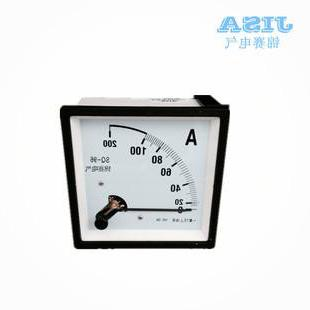pointer: (69, 115, 219, 241)
